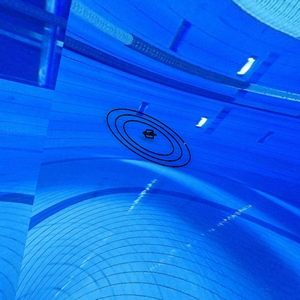circle: (103, 107, 199, 171)
submarine: (142, 128, 158, 144)
